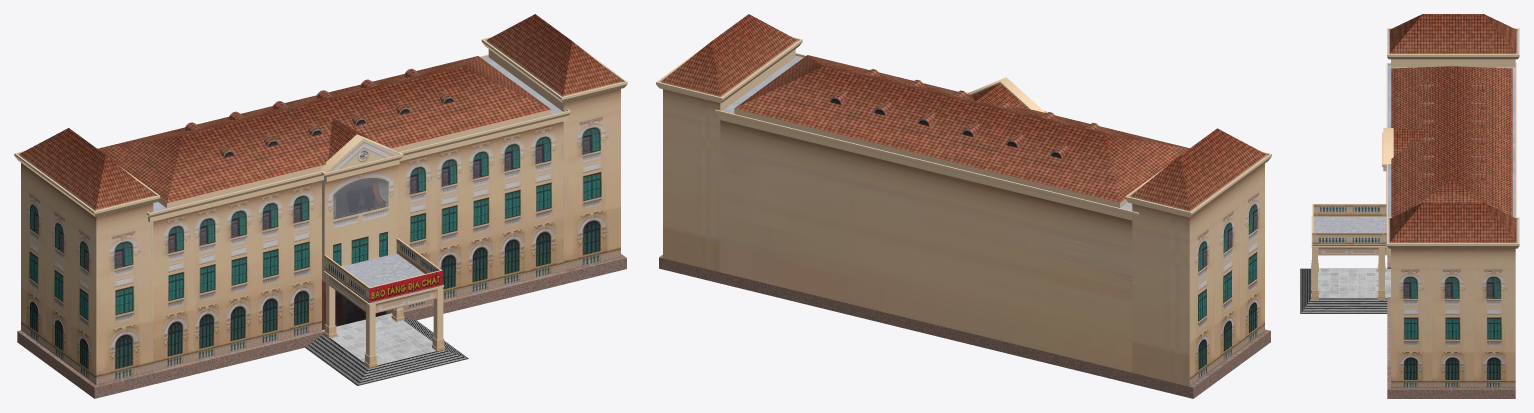
3 views of the same model, side by side, from view 1: azimuth 30°, elevation 25°; view 2: azimuth 150°, elevation 25°; view 3: azimuth 270°, elevation 25° (orthographic). The views are drawn at different scales.
Parts seen in each view (by area): view 1: HN666_BaoTangDiaChat; view 2: HN666_BaoTangDiaChat; view 3: HN666_BaoTangDiaChat.
Boxes of the visible parts, box(x1,y1,x2,y2) form: HN666_BaoTangDiaChat: box(14, 14, 627, 398); HN666_BaoTangDiaChat: box(656, 14, 1271, 398); HN666_BaoTangDiaChat: box(1300, 14, 1519, 398).
Size of the model in its own units: 41.74 by 16.5 by 17.95.
1 material, 1 textured.
